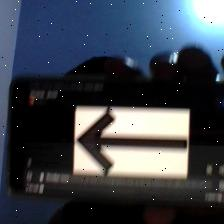left: (77, 114, 186, 170)
